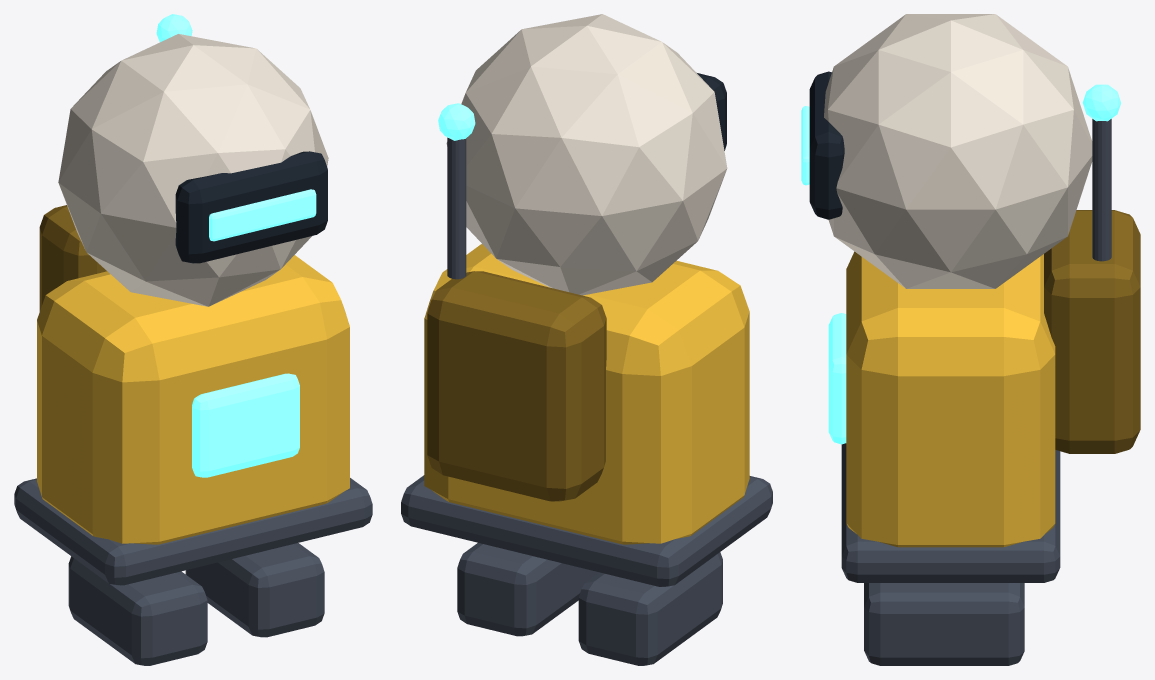
File: player_gold.glb
3 renders of one model, left to right at view 1: azimuth 30°, elevation 25°; view 2: azimuth 150°, elevation 25°; view 3: azimuth 270°, elevation 25°, orthographic. The views are drawn at different scales.
Parts seen in each view (by area): view 1: player_gold; view 2: player_gold; view 3: player_gold.
Boxes of the visible parts, x1,y1,x2,y2 form: player_gold: (14,14,372,665); player_gold: (401,14,772,665); player_gold: (801,14,1140,665).
Size of the model in its own units: 1 by 2.07 by 1.05.
